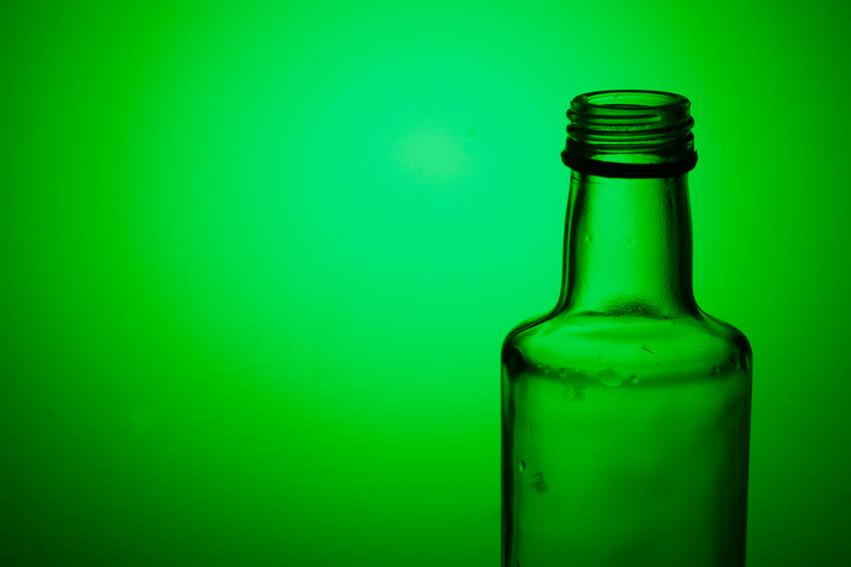bottle: (499, 89, 754, 566)
